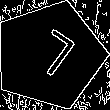L_SW: (21, 26, 78, 85)
